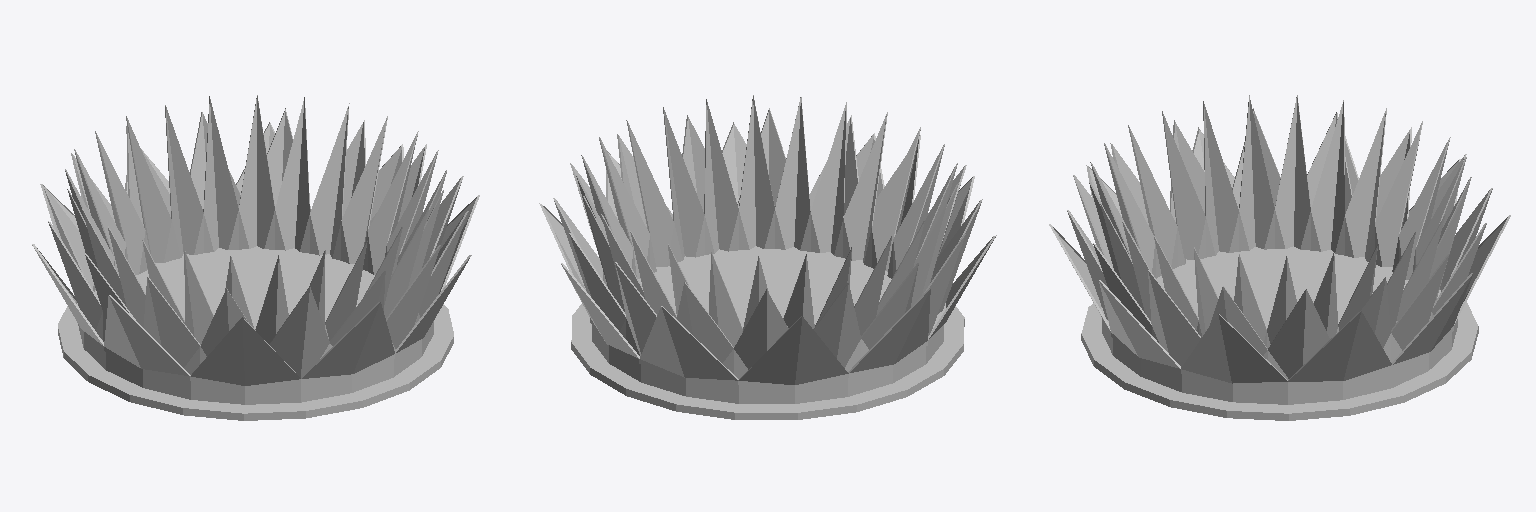
File: portal_000027.obj
3 views of the same model, side by side, from view 1: azimuth 30°, elevation 25°; view 2: azimuth 150°, elevation 25°; view 3: azimuth 270°, elevation 25° (orthographic).
Parts seen in each view (by area): view 1: Cylinder.001, pCylinder1, Cylinder; view 2: Cylinder.001, pCylinder1, Cylinder; view 3: Cylinder.001, pCylinder1, Cylinder.
Part boxes in pixels (x1,y1,x2,y2): Cylinder.001: (65,95,446,344); pCylinder1: (32,122,479,420); Cylinder: (43,108,468,377); Cylinder.001: (576,95,958,346); pCylinder1: (539,122,996,419); Cylinder: (553,108,982,378); Cylinder.001: (1089,95,1471,348); pCylinder1: (1049,127,1510,420); Cylinder: (1067,108,1492,379).
Bounding box in the file's own units: 7.18 × 2.9 × 7.44.